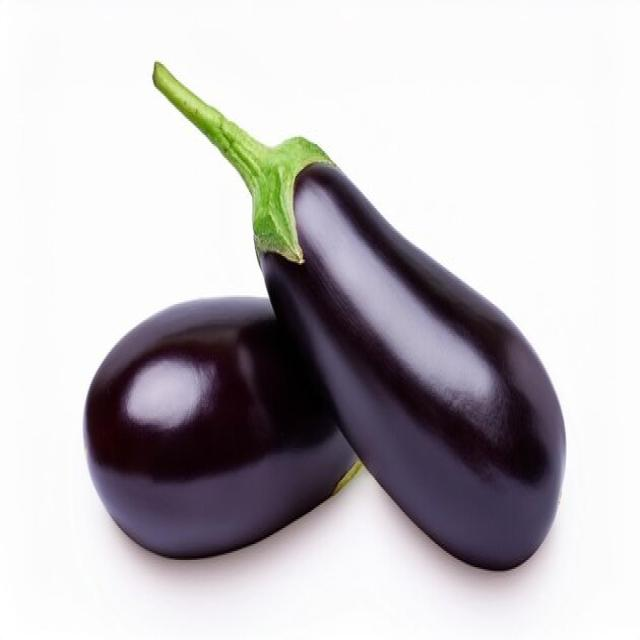Eggplant: (150, 58, 567, 570), (82, 293, 362, 560)
